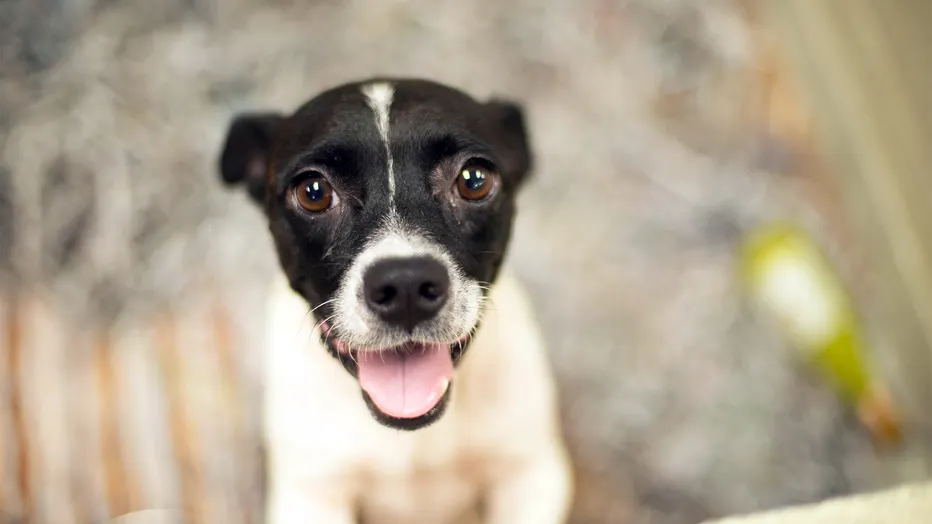pet: (216, 73, 580, 524)
